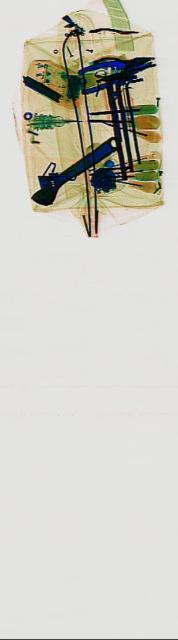Pliers: (92, 36, 153, 94)
Wrench: (29, 122, 116, 215)
